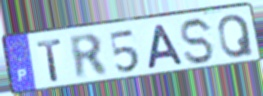5: (108, 27, 141, 74)
A: (145, 23, 187, 71)
Q: (217, 13, 256, 61)
R: (67, 32, 111, 82)
S: (179, 16, 217, 67)
T: (35, 37, 64, 84)
